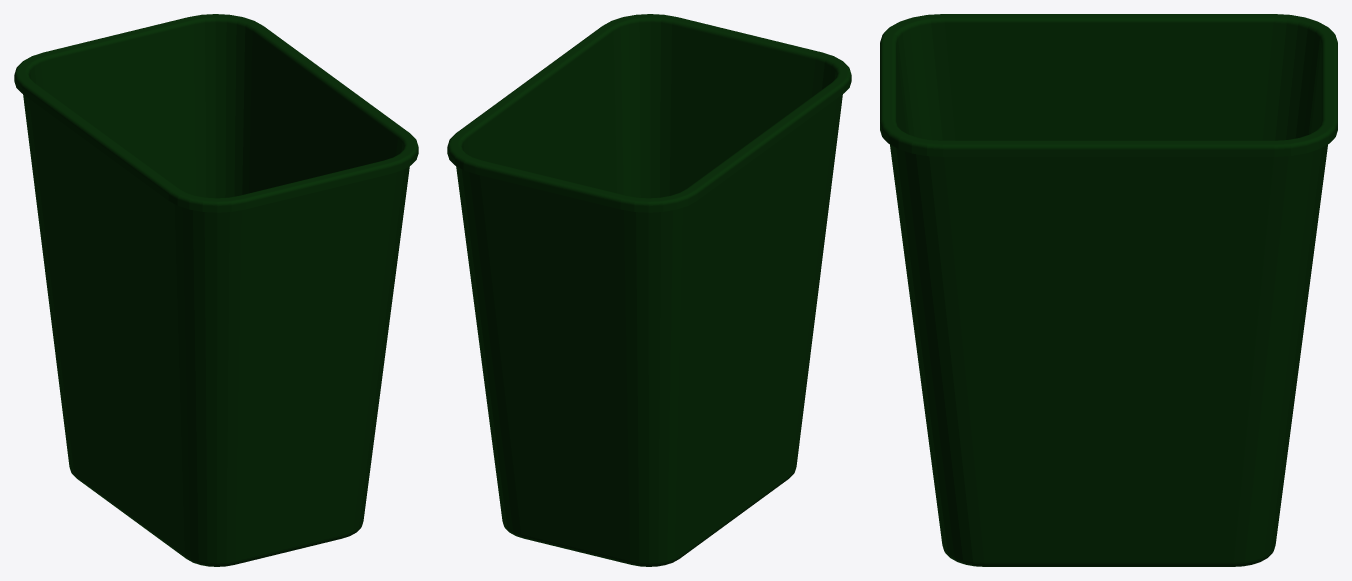
The picture shows the model from 3 angles, left to right: view 1: azimuth 30°, elevation 25°; view 2: azimuth 150°, elevation 25°; view 3: azimuth 270°, elevation 25°; orthographic projection. The views are drawn at different scales.
Parts seen in each view (by area): view 1: mesh1_mesh1-geometry; view 2: mesh1_mesh1-geometry; view 3: mesh1_mesh1-geometry.
Boxes of the visible parts, left/top/right/bottom form: mesh1_mesh1-geometry: left=14, top=14, right=418, bottom=566; mesh1_mesh1-geometry: left=447, top=14, right=851, bottom=566; mesh1_mesh1-geometry: left=880, top=14, right=1337, bottom=566.
Size of the model in its own units: 0.4266 by 0.6599 by 0.6185.
